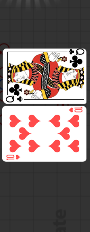10H: (67, 107, 83, 114)
